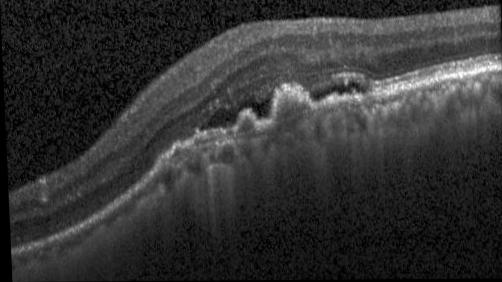neuroepithelium_detachment: (199, 96, 272, 130), (310, 83, 364, 101)
retinal_drusen: (275, 91, 311, 123), (192, 130, 232, 146), (237, 116, 253, 133), (171, 147, 182, 157)
